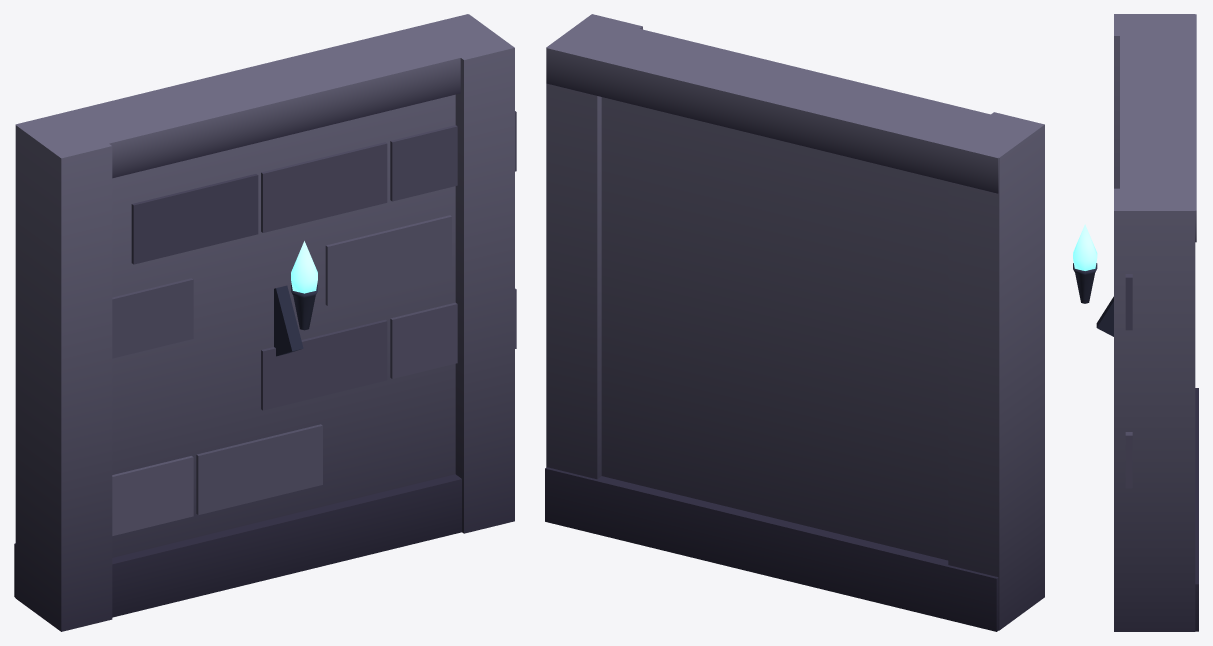
The model's file is dun_wall_torch_blue.glb.
3 views of the same model, side by side, from view 1: azimuth 30°, elevation 25°; view 2: azimuth 150°, elevation 25°; view 3: azimuth 270°, elevation 25° (orthographic). The views are drawn at different scales.
Parts seen in each view (by area): view 1: dun_wall_torch_blue; view 2: dun_wall_torch_blue; view 3: dun_wall_torch_blue.
Part boxes in pixels (left/top/right/bottom): dun_wall_torch_blue: left=14, top=14, right=516, bottom=631; dun_wall_torch_blue: left=545, top=14, right=1044, bottom=631; dun_wall_torch_blue: left=1073, top=14, right=1198, bottom=631.
Bounding box in the file's own units: 4.08 × 4 × 1.08.
